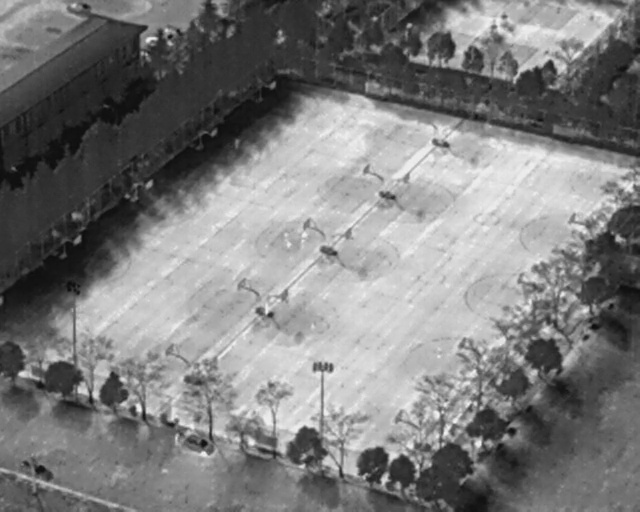Person: (233, 136, 241, 150)
